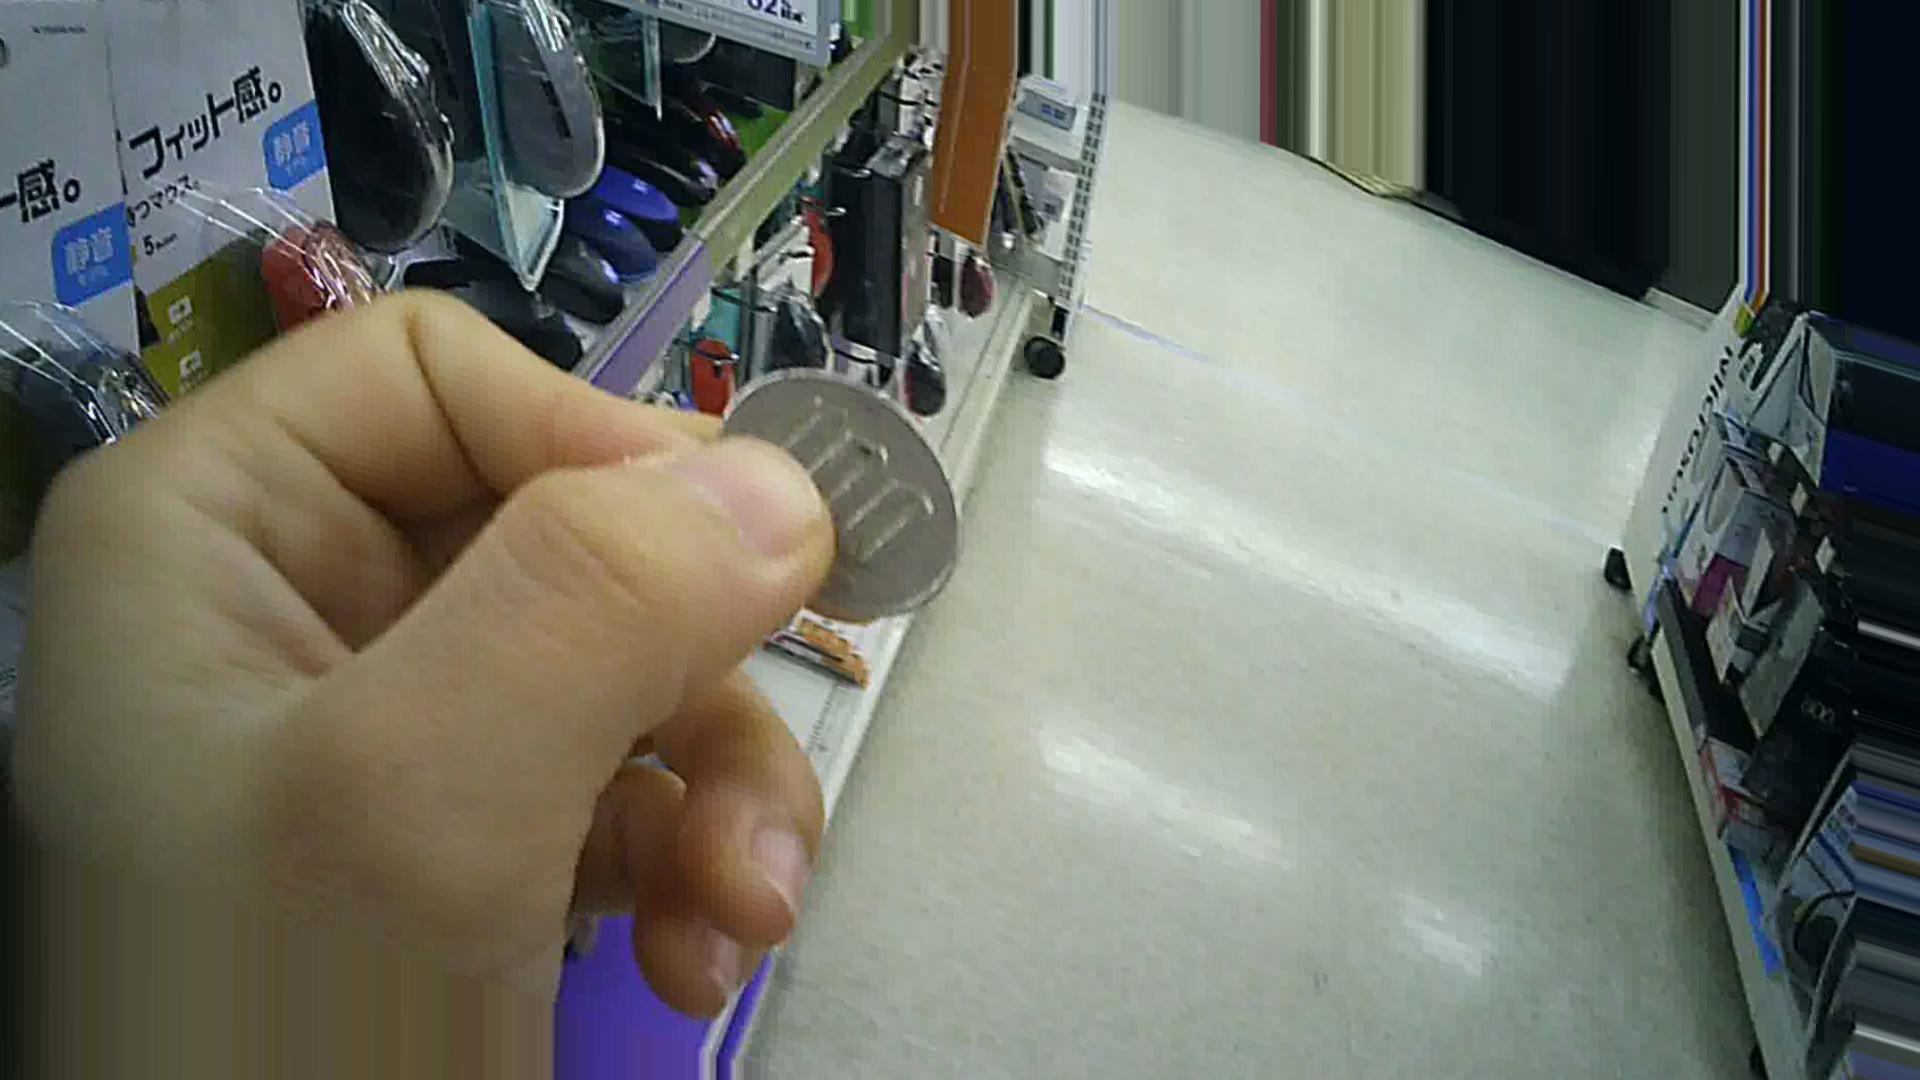100 Yen: (696, 363, 957, 620)
